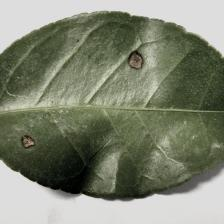canker: (8, 47, 159, 156)
